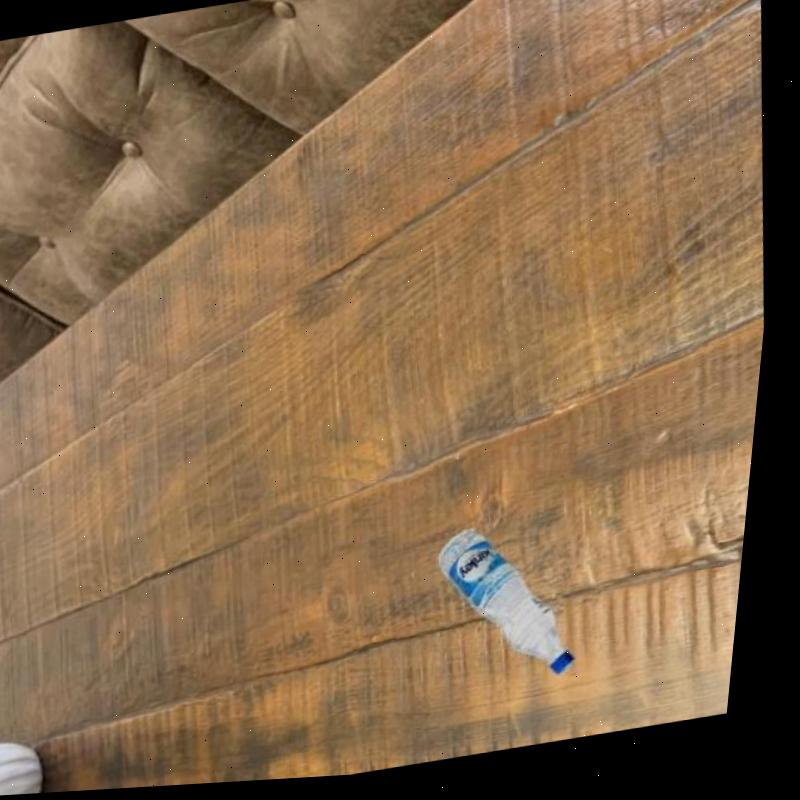botella: (435, 520, 600, 698)
